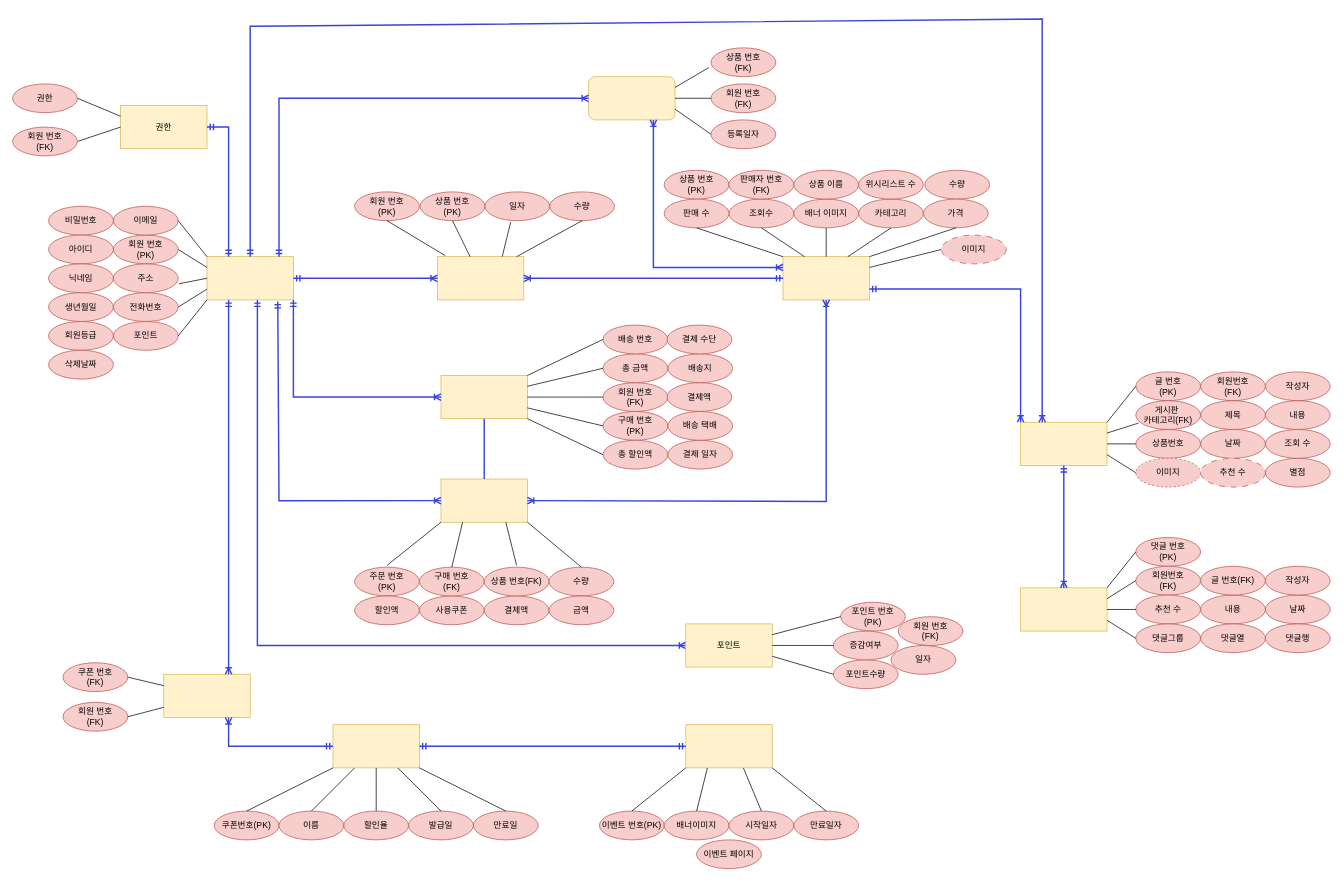
Some shapes in this 1343 by 881 pixel diagram are drawn without their labels. The shapes that lost their labels are listed below. From the top down, each one's box as (x1, y1, x2, y2) in pixels, then its label:
(588, 76, 675, 120): 위시리스트
(206, 256, 293, 300): 회원
(437, 256, 524, 300): 장바구니
(782, 256, 869, 300): 상품
(440, 375, 527, 419): 구매
(1020, 422, 1107, 465): 게시판
(440, 478, 527, 522): 구매 상세
(1020, 587, 1107, 631): 댓글
(163, 674, 250, 717): 개인 쿠폰
(332, 724, 419, 768): 쿠폰 분류
(685, 724, 772, 768): 이벤트
